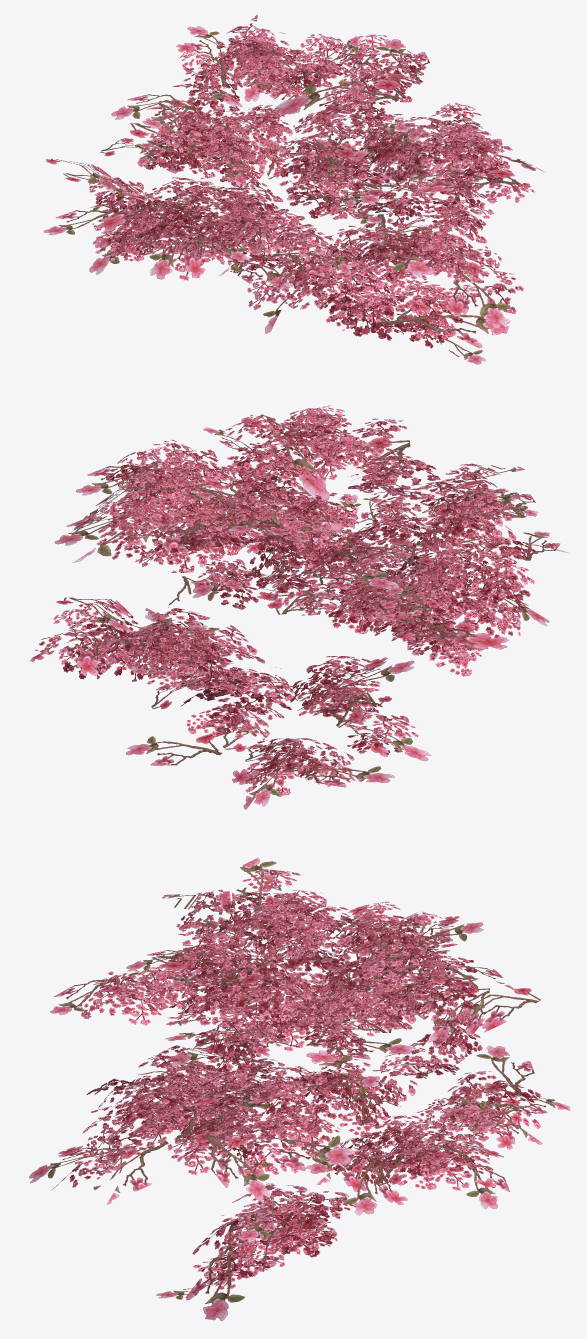
The model's file is ss_taohua_4.FBX.
3 views of the same model, one above another, from view 1: azimuth 30°, elevation 25°; view 2: azimuth 150°, elevation 25°; view 3: azimuth 270°, elevation 25° (orthographic). The views are drawn at different scales.
Parts seen in each view (by area): view 1: ss_taohua_4; view 2: ss_taohua_4; view 3: ss_taohua_4.
Part boxes in pixels (x1,y1,x2,y2): ss_taohua_4: (43, 15, 543, 364); ss_taohua_4: (30, 405, 569, 809); ss_taohua_4: (29, 857, 570, 1320).
Bounding box in the file's own units: 512 × 338 × 511.
